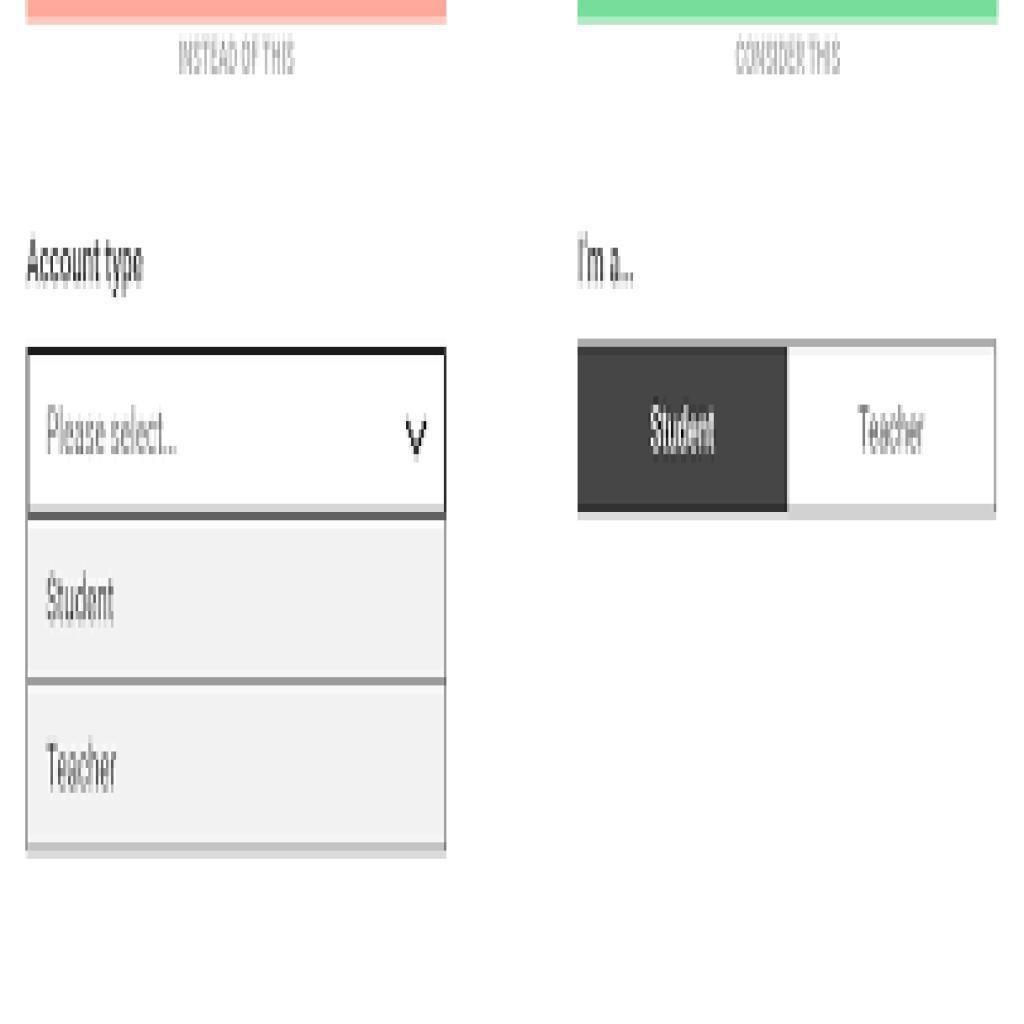button: (576, 339, 790, 517)
dropdown: (24, 346, 447, 521)
label: (847, 389, 940, 466)
